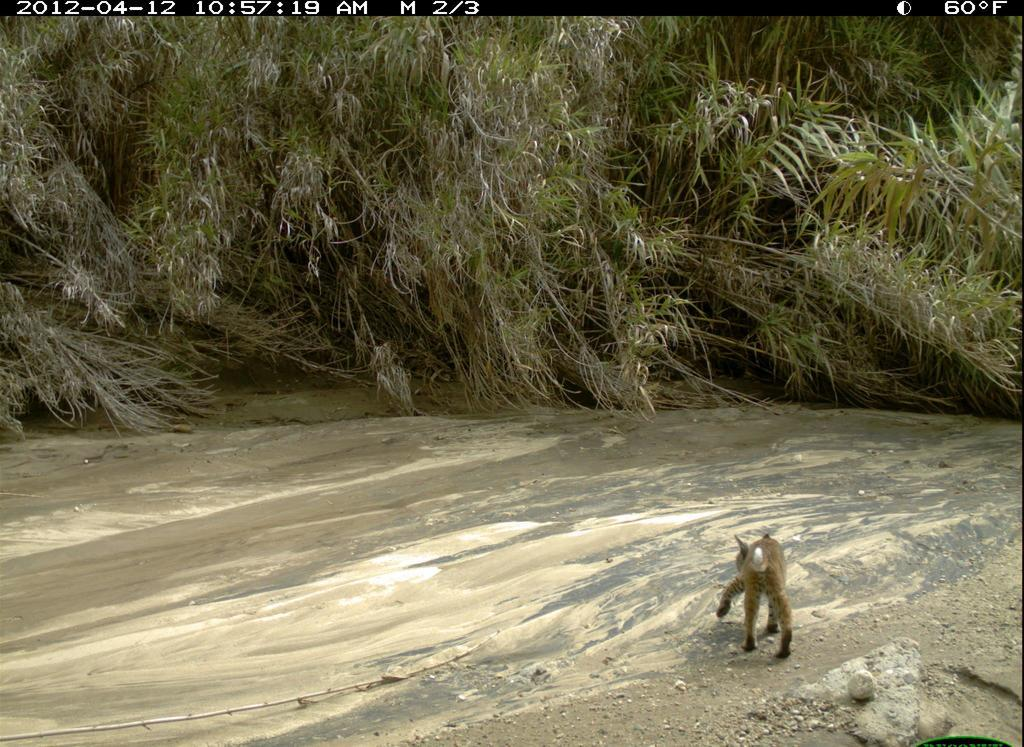bobcat: (710, 521, 812, 672)
